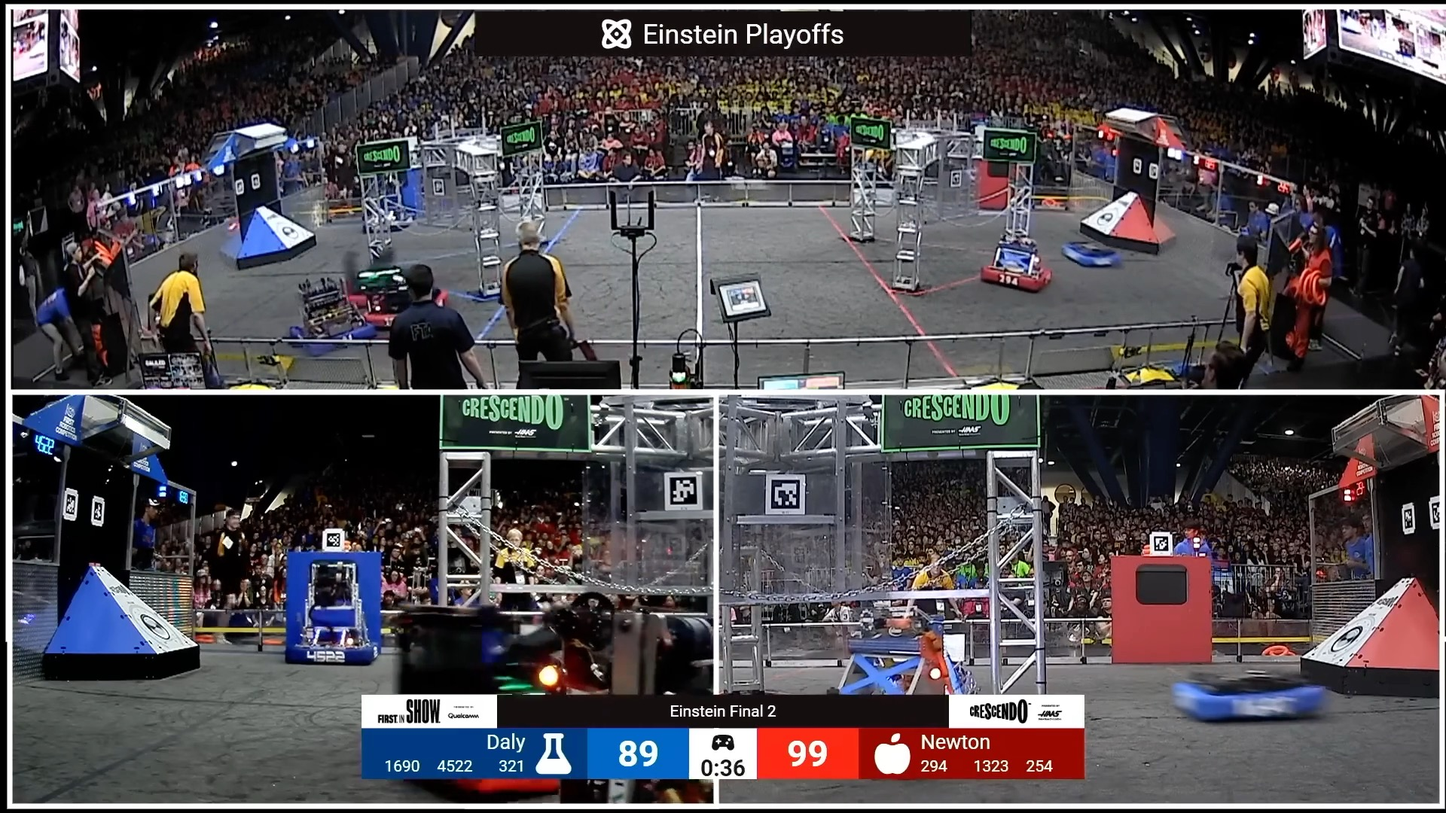bumpers: (1160, 672, 1334, 735), (269, 628, 390, 672), (372, 286, 456, 336), (975, 250, 1062, 296), (282, 313, 377, 355), (342, 265, 425, 307), (1053, 240, 1132, 272)
